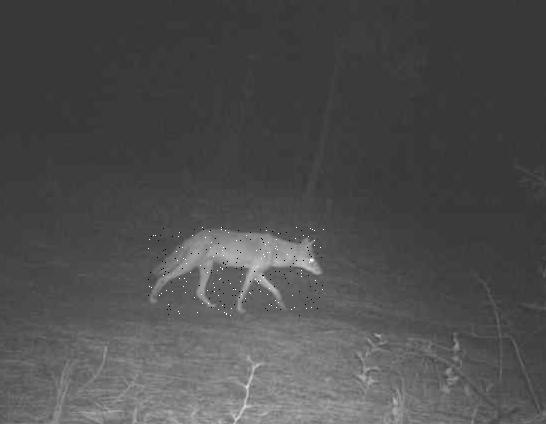Coyote: (148, 228, 324, 317)
